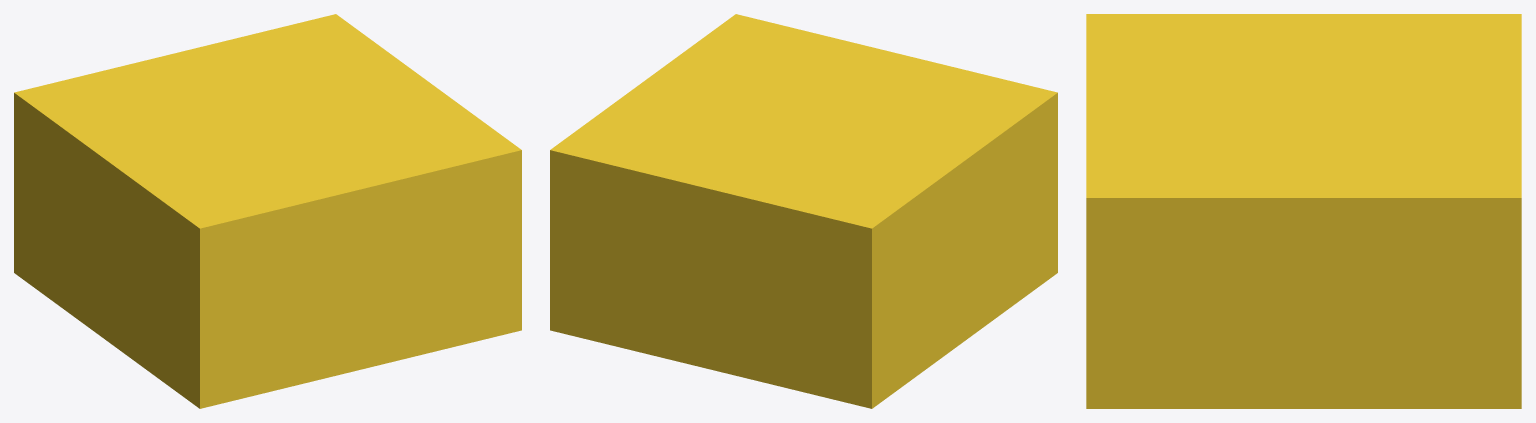
The model's file is Sticker31.fbx.
3 views of the same model, side by side, from view 1: azimuth 30°, elevation 25°; view 2: azimuth 150°, elevation 25°; view 3: azimuth 270°, elevation 25° (orthographic). The views are drawn at different scales.
Parts seen in each view (by area): view 1: Sticker31; view 2: Sticker31; view 3: Sticker31.
Boxes of the visible parts, box(x1,y1,x2,y2) form: Sticker31: box(14, 14, 521, 408); Sticker31: box(550, 14, 1057, 408); Sticker31: box(1086, 14, 1521, 408).
Bounding box in the file's own units: 0.075 × 0.075 × 0.0401.
